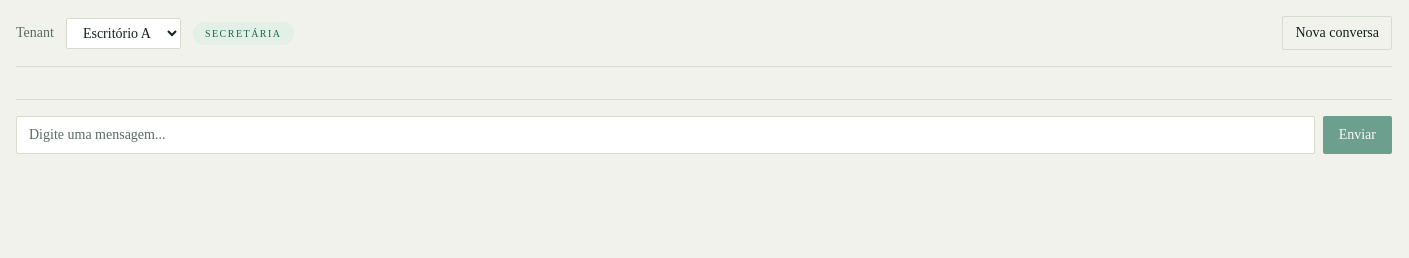
Test: AdminPlaygroundPanel › envia mensagem e renderiza a resposta com a tag do agente
In the field with placeholder "Digite uma mensagem...": (665, 135) [16,116,1315,154], type "tenho uma dúvida sobre condomínio"
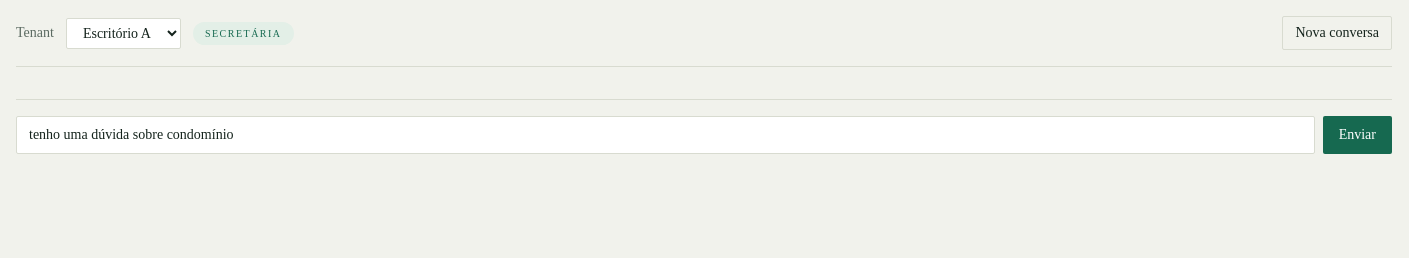
Click the button "Enviar": (1357, 135) [1323,116,1392,154]
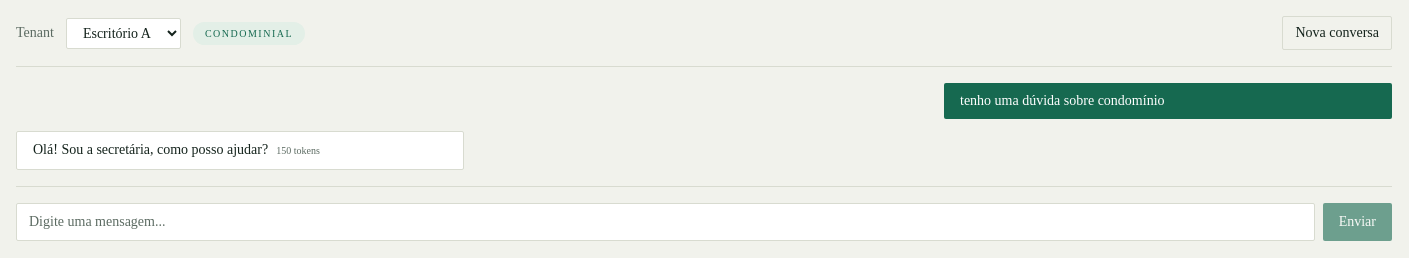
Result: the text "Olá! Sou a secretária, como posso ajudar?" is shown at [33,142,268,157]
Result: the text "tenho uma dúvida sobre condomínio" is shown at [944,83,1392,119]
Result: the text "Condominial" is shown at [193,22,305,44]
